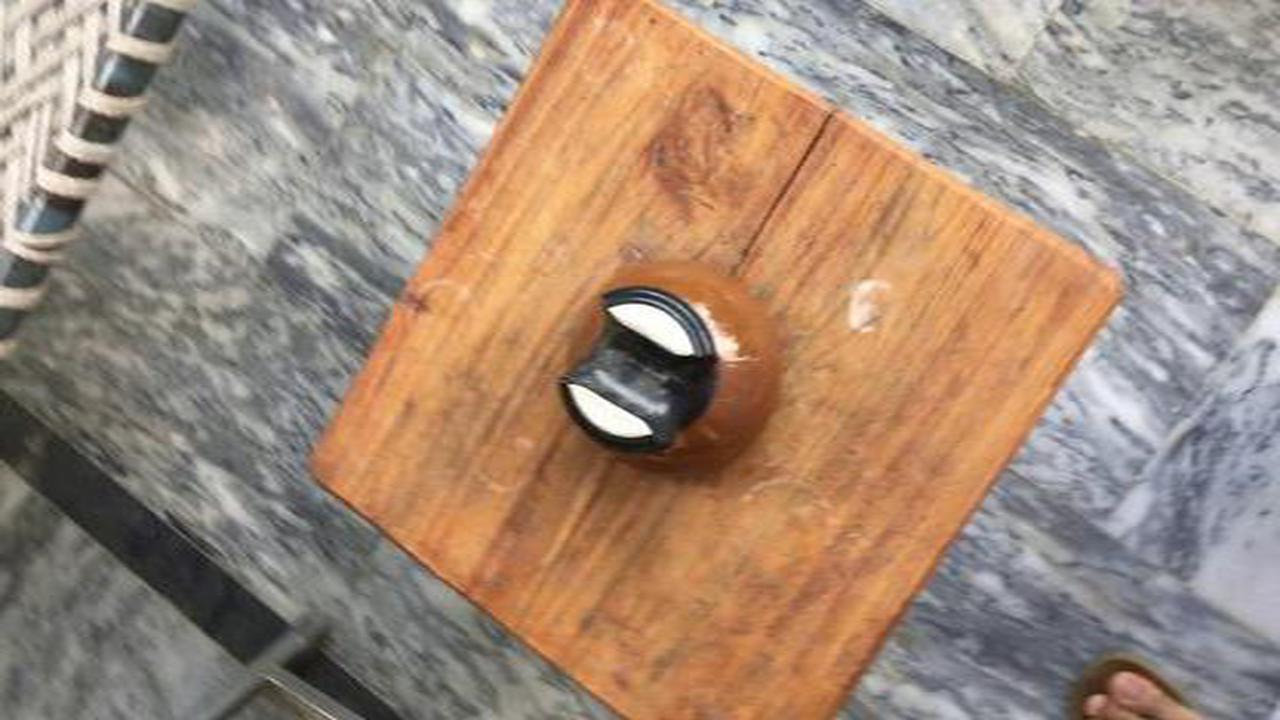insulator_pin: (511, 250, 807, 494)
